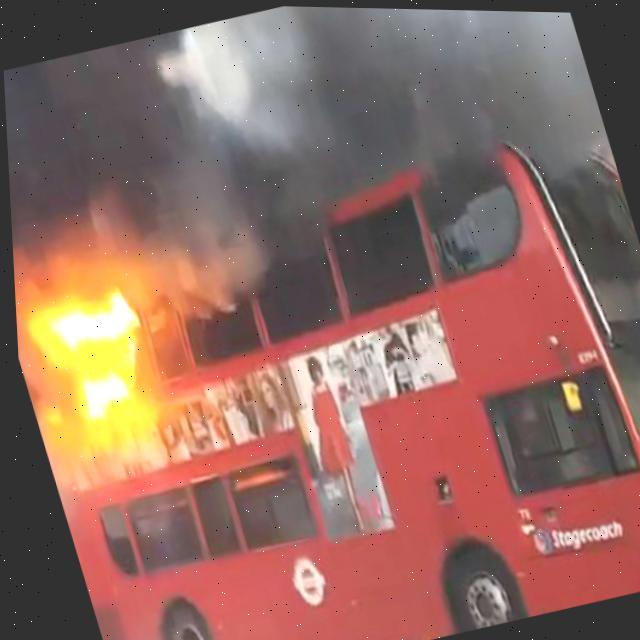fire: (10, 214, 206, 490)
smoke: (3, 5, 606, 287)
